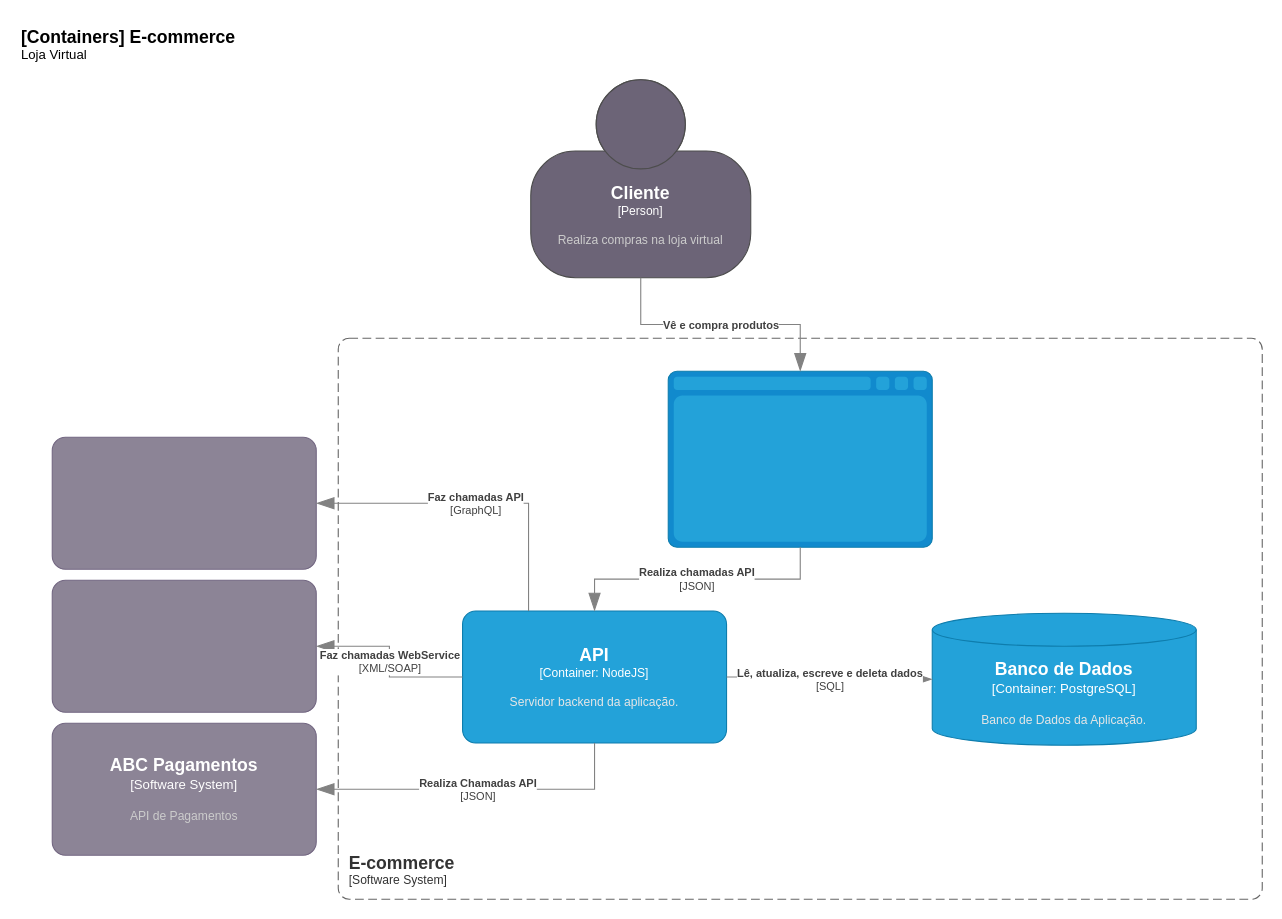
Some shapes in this 1282 by 919 pixel diagram are drawn without their labels. Here are the shapes that lost their labels. From the top down, the centre of each, then its label:
At (799,458): "Aplicação Web [Container: ReactJS] PLataforma Web do E-commerce".
At (183,502): "GHI CRM [Software System] API de Sistema de Relacionamento com Cliente".
At (183,645): "DEF Logistica [Software System] API de Cálculo de Frete e Logística".
